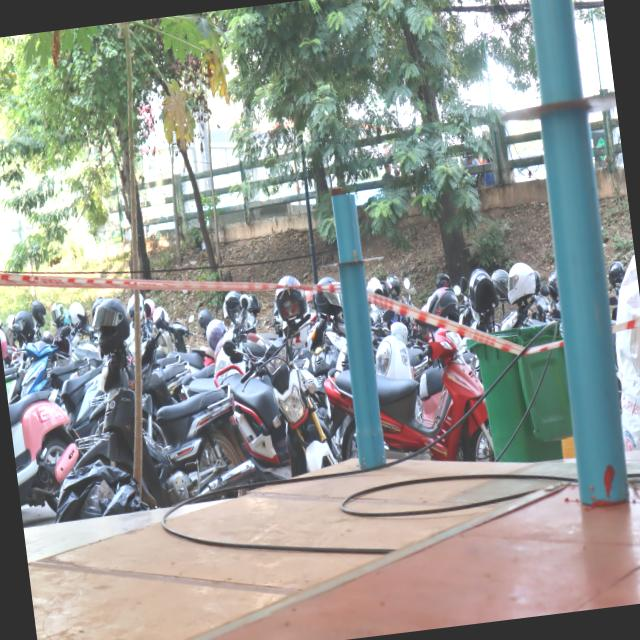pole: (487, 0, 630, 259), (314, 187, 392, 327)
